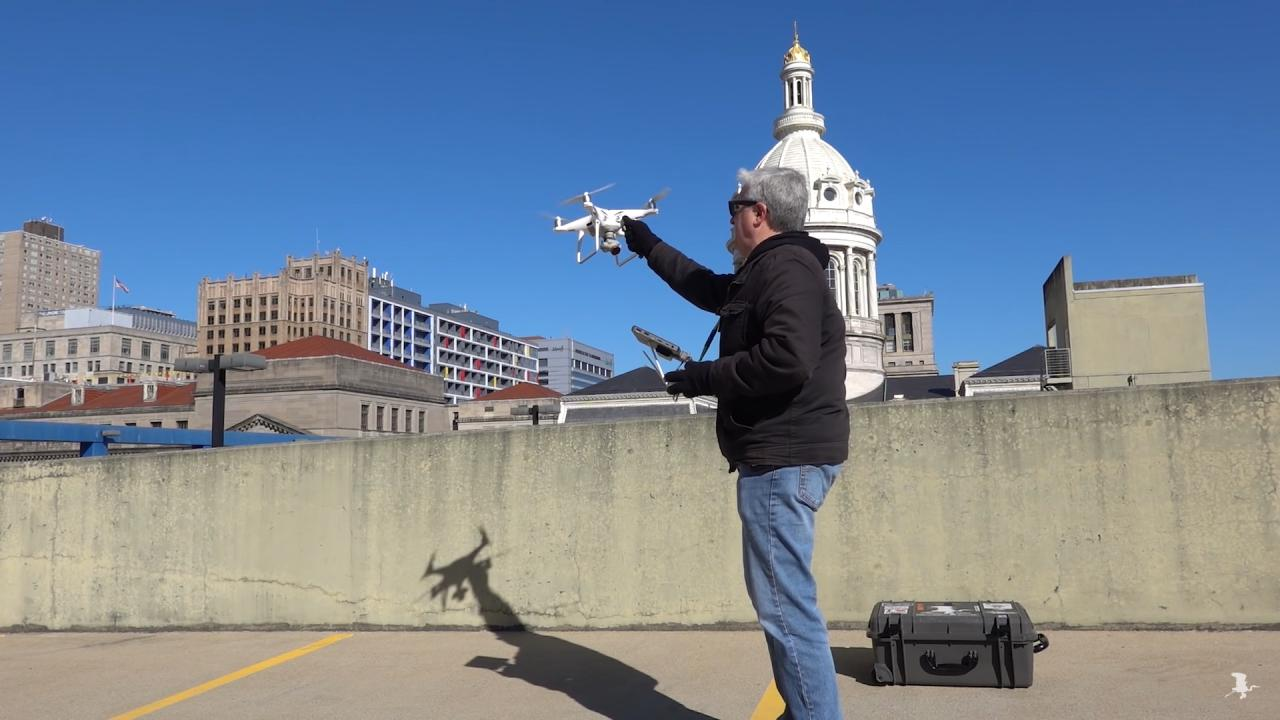Drone: (523, 174, 679, 276)
